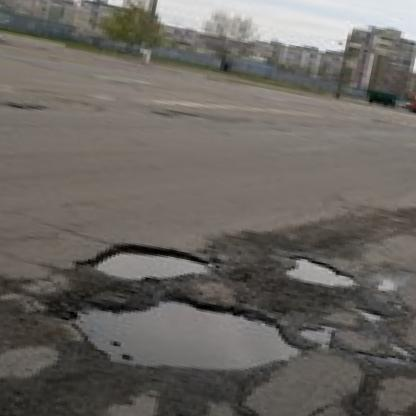pothole: (56, 277, 311, 398), (86, 233, 218, 297), (281, 252, 360, 295), (295, 319, 340, 354), (353, 307, 385, 326)
